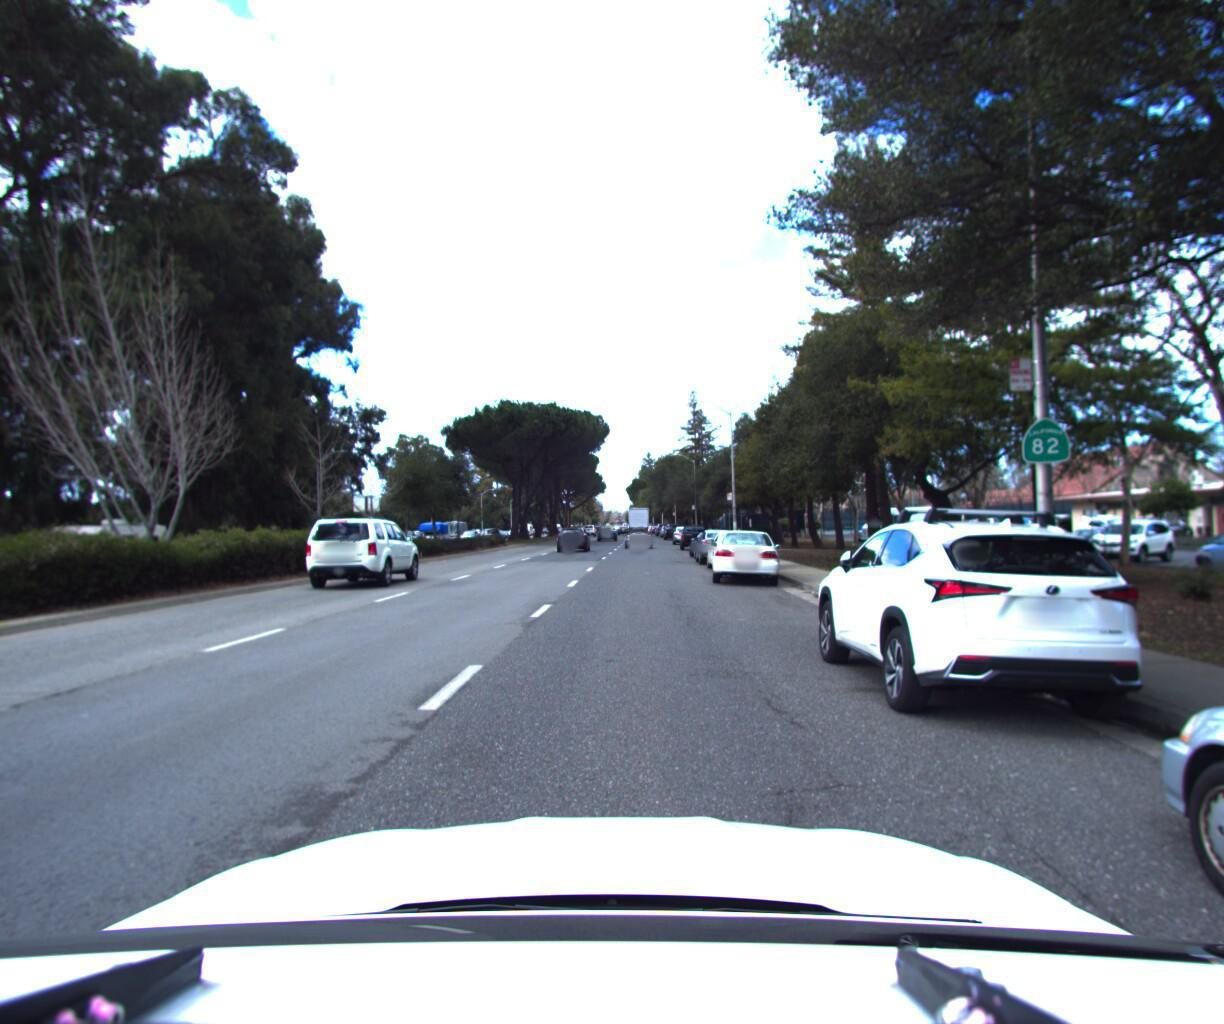car: (801, 502, 1197, 752), (298, 517, 433, 595), (711, 527, 787, 590), (703, 528, 772, 574), (695, 528, 746, 566), (557, 527, 594, 556), (680, 523, 712, 552), (623, 523, 656, 551), (597, 525, 619, 541)
other_vehicle: (37, 522, 182, 595)
